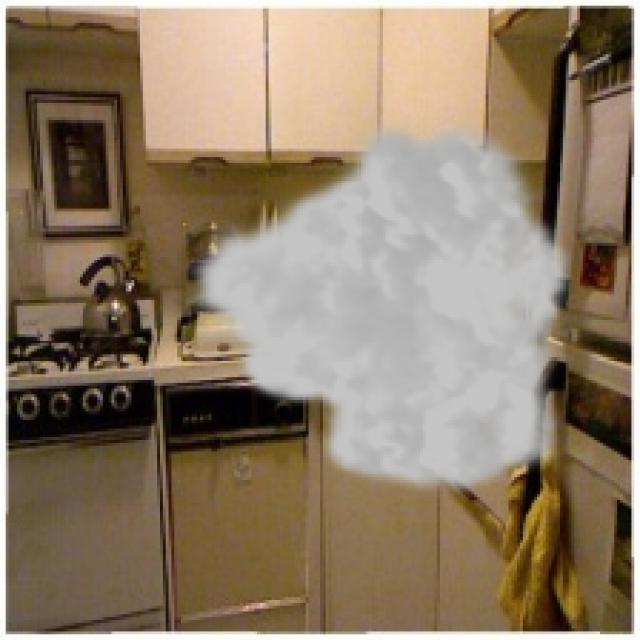Smoke: (182, 111, 574, 500)
